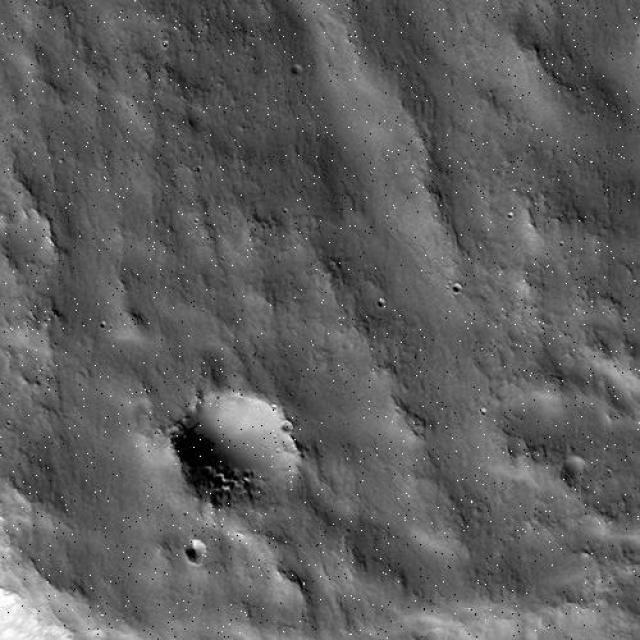crater: (154, 369, 344, 527), (447, 587, 559, 640), (0, 166, 52, 263)
